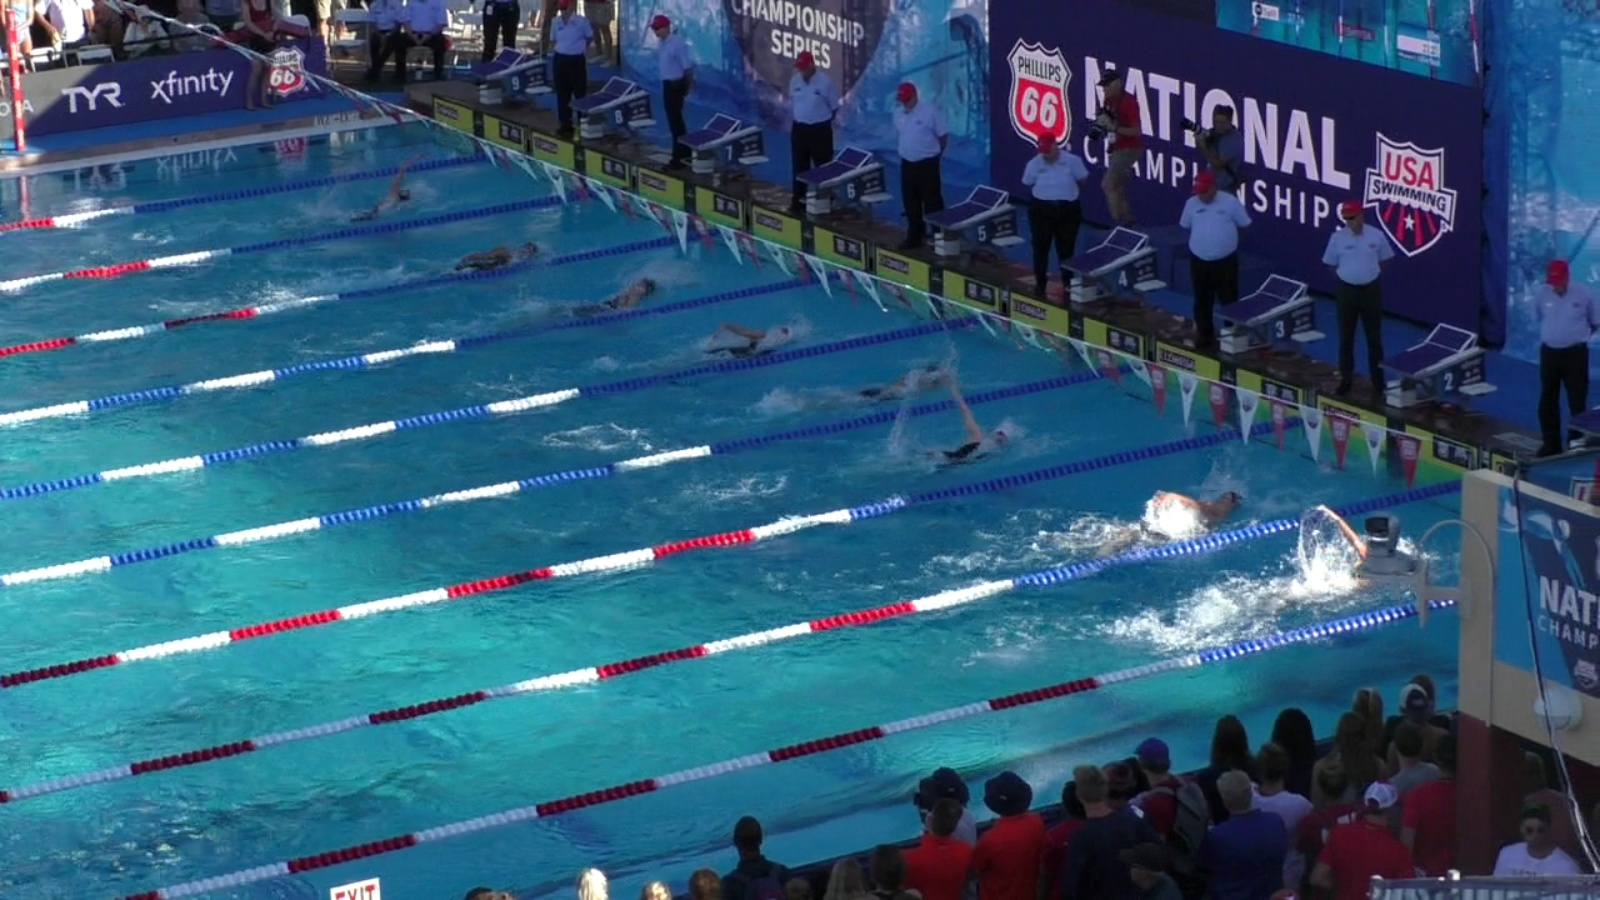swimmerw: (1258, 505, 1422, 613), (1087, 488, 1247, 565), (905, 379, 1010, 487), (813, 360, 958, 413), (330, 160, 415, 233), (543, 273, 663, 323), (697, 319, 803, 368), (435, 237, 546, 279)
